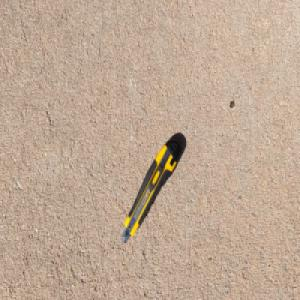Cutter: (121, 136, 183, 244)
